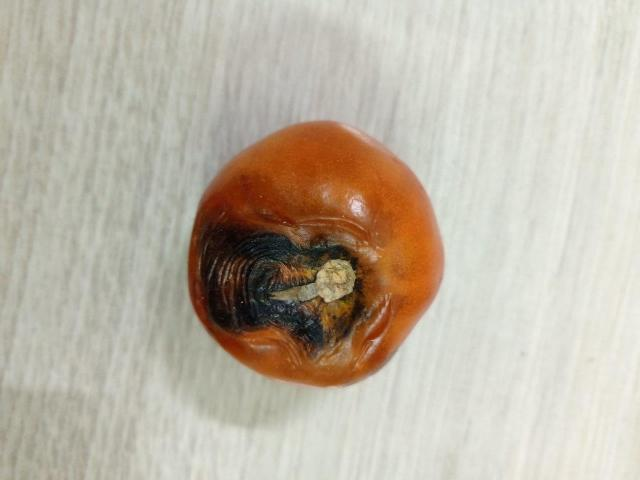defect: (189, 115, 446, 389)
